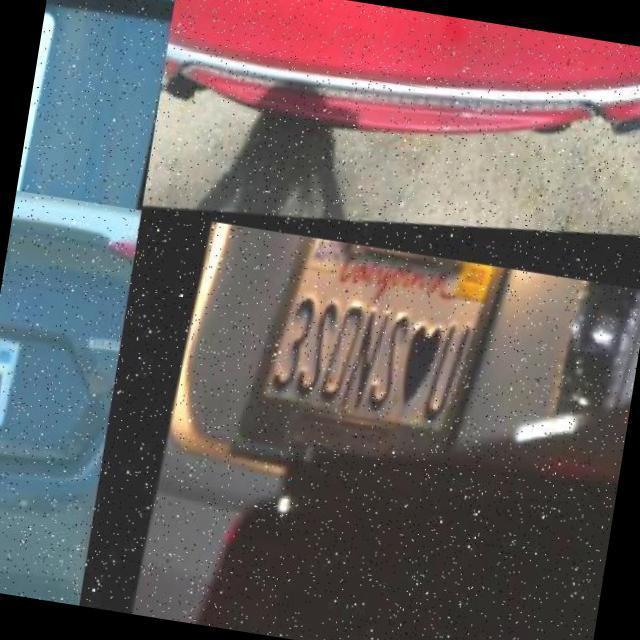License Plate: (235, 231, 492, 493), (17, 1, 172, 211), (0, 334, 40, 436)
